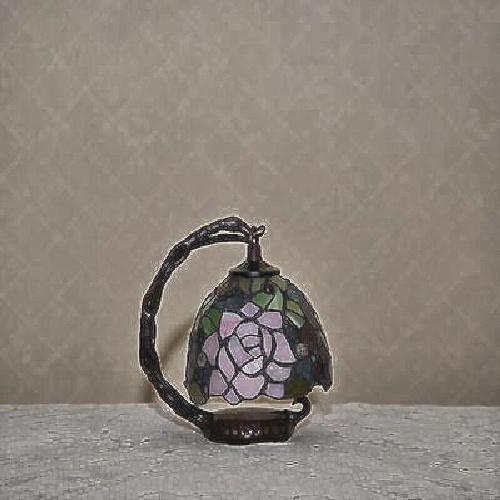lamp: (142, 216, 337, 441)
